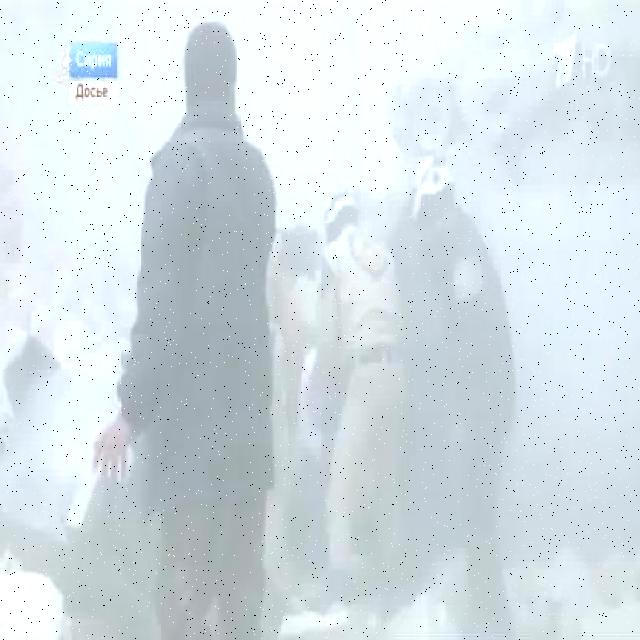Helmet: (408, 150, 458, 222), (323, 190, 359, 228)
